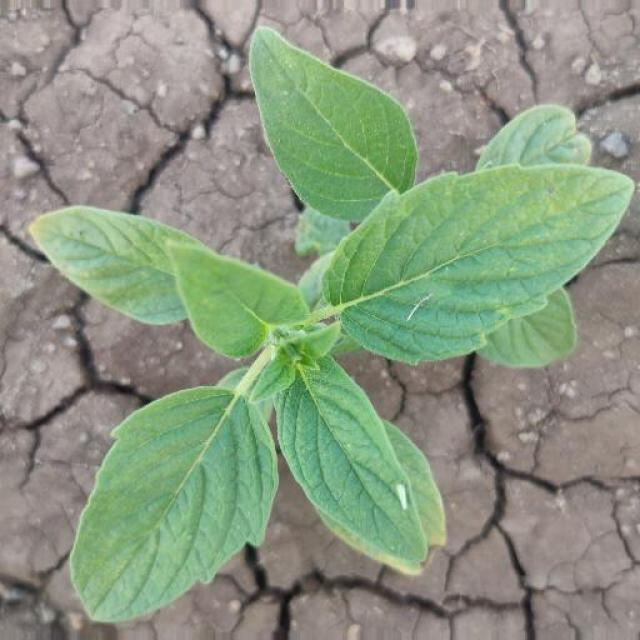crop: (27, 23, 628, 622)
